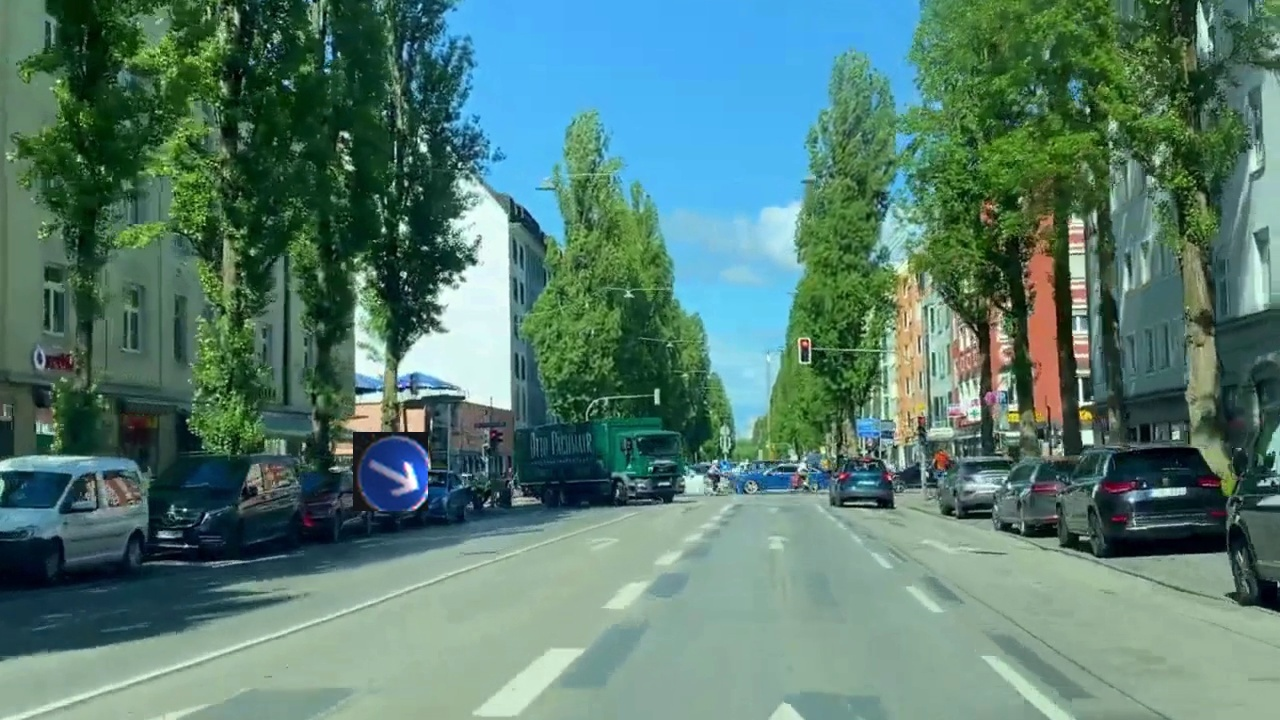Keep right: (353, 432, 428, 511)
